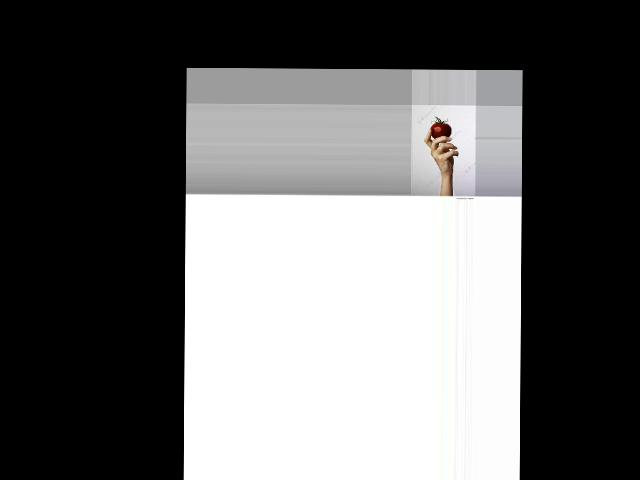tomato: (431, 116, 451, 138)
